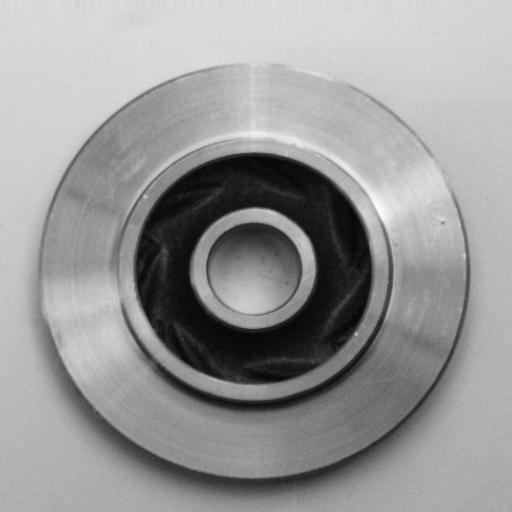scratch: (278, 52, 350, 92)
unpolished_casting: (40, 60, 470, 484)
